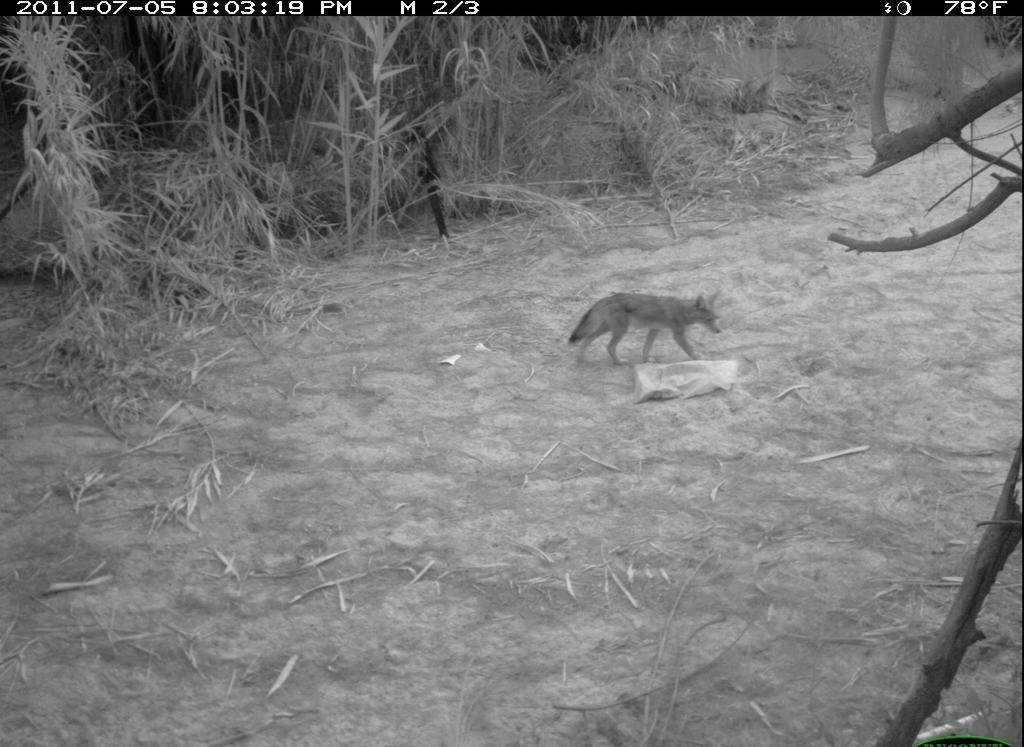coyote: (565, 289, 726, 372)
